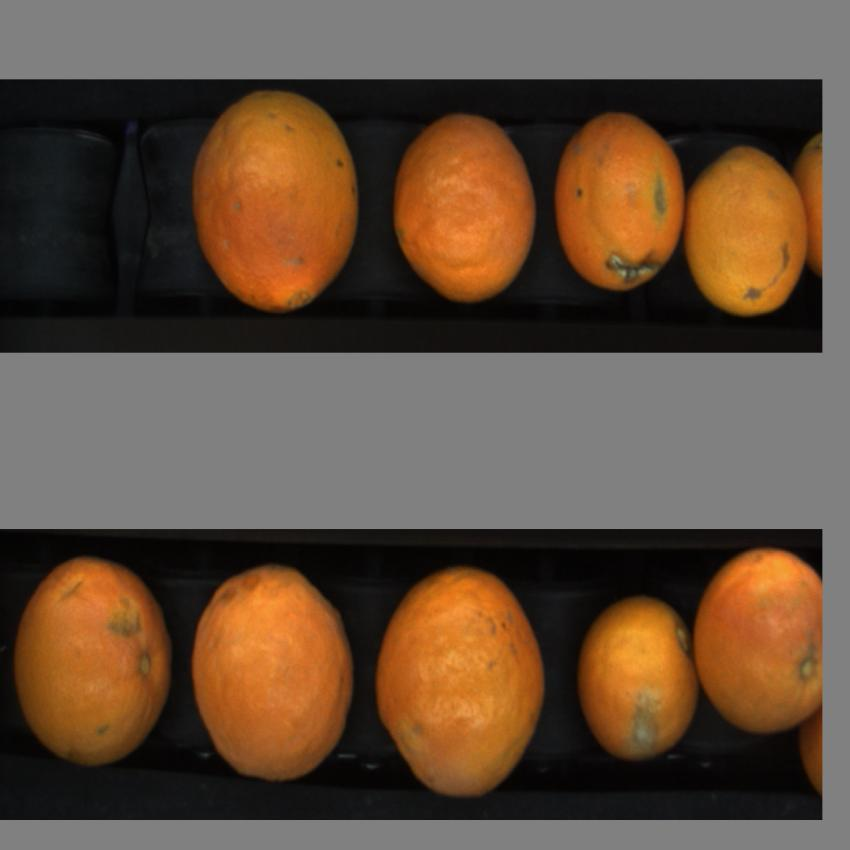Buen estado: (374, 552, 548, 802), (188, 83, 364, 324), (190, 566, 359, 791), (14, 549, 173, 781), (571, 573, 703, 760), (691, 549, 822, 736), (686, 124, 809, 318)
Mal estado: (387, 107, 540, 309), (548, 112, 689, 306)
